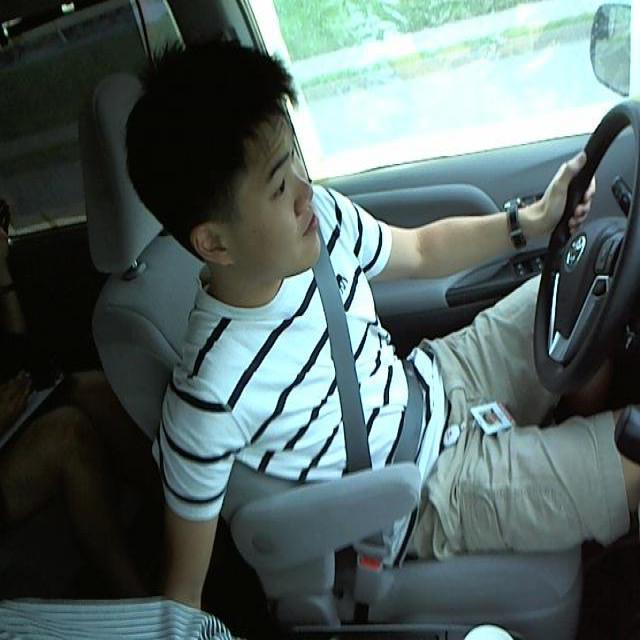seatbelt: (312, 269, 422, 468)
